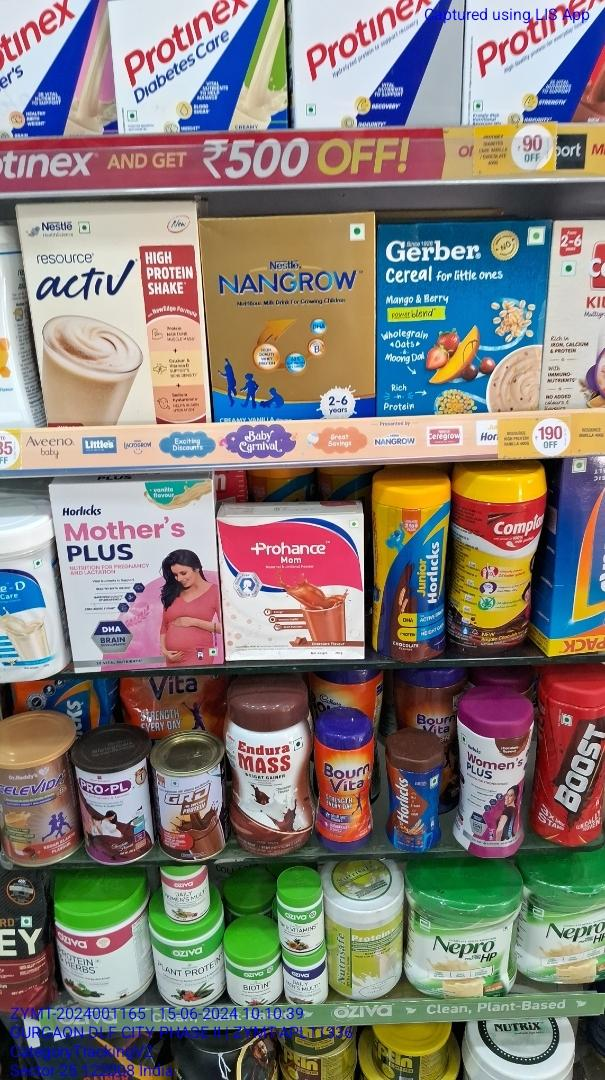BOURN_VITA_200_G_JAR: (315, 716, 375, 851)
COMPLAN_CHOCOLATE_500_GMS_JAR: (454, 472, 545, 653)
HORLICK_CHOCOLATE_200_G_JAR: (386, 736, 444, 856)
